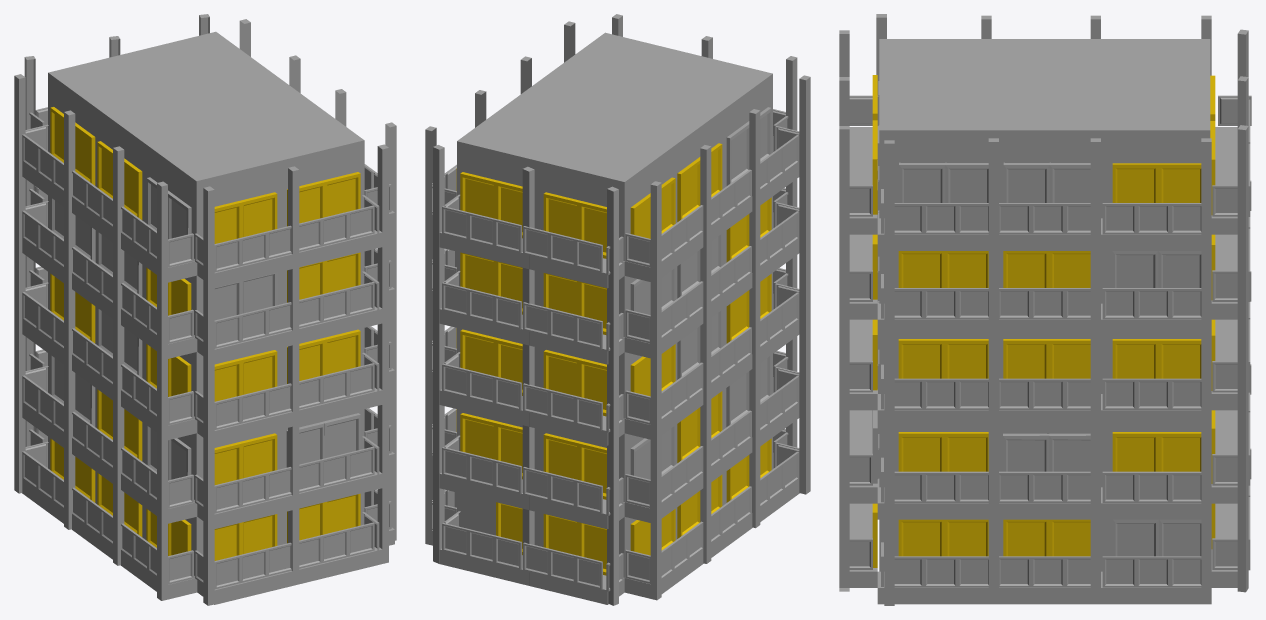
The model's file is appartment_NoRoof.fbx.
The picture shows the model from 3 angles, left to right: view 1: azimuth 30°, elevation 25°; view 2: azimuth 150°, elevation 25°; view 3: azimuth 270°, elevation 25°; orthographic projection. The views are drawn at different scales.
Visible parts, largest first — view 1: polySurface2813; view 2: polySurface2813; view 3: polySurface2813.
Boxes of the visible parts, left/top/right/bottom form: polySurface2813: left=14, top=14, right=396, bottom=605; polySurface2813: left=425, top=14, right=810, bottom=605; polySurface2813: left=839, top=14, right=1251, bottom=605.
Size of the model in its own units: 576 by 957 by 772.
